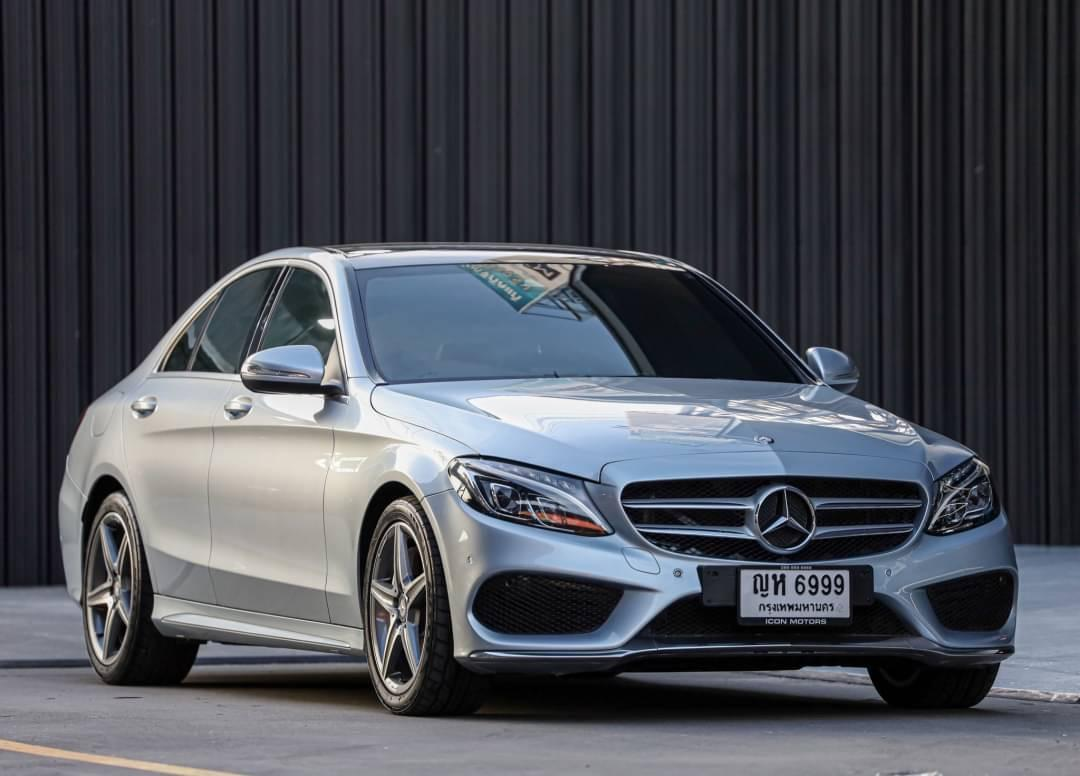license-plate: (736, 562, 854, 630)
